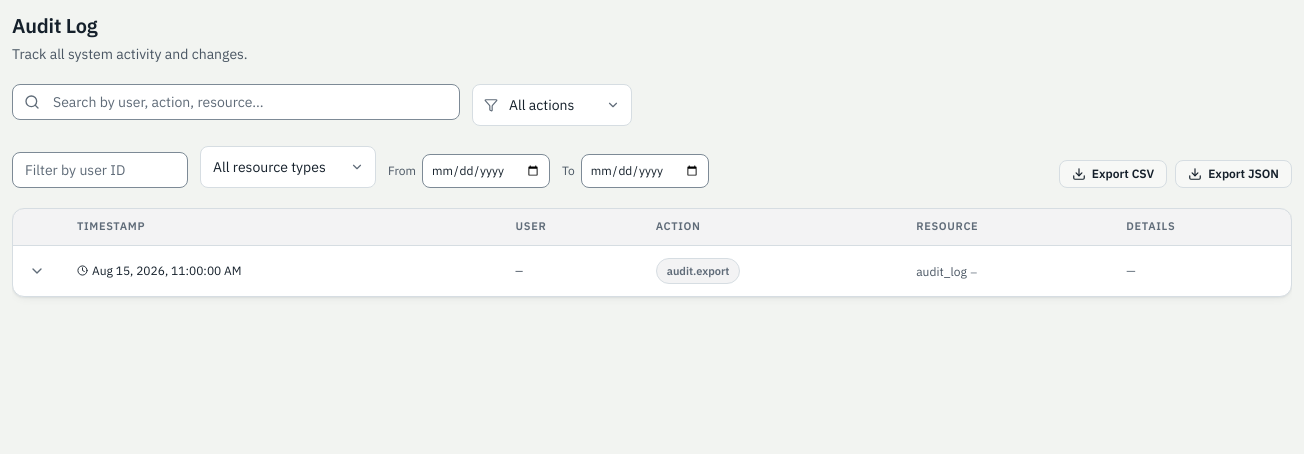
Test: AdminAuditLogPage — filters and export › expands a row with null details instead of silently doing nothing
Expected: the text "audit.export" is shown, [656, 258, 740, 284]
Click the button named "expand row" at (37, 271), box [29, 263, 45, 279]
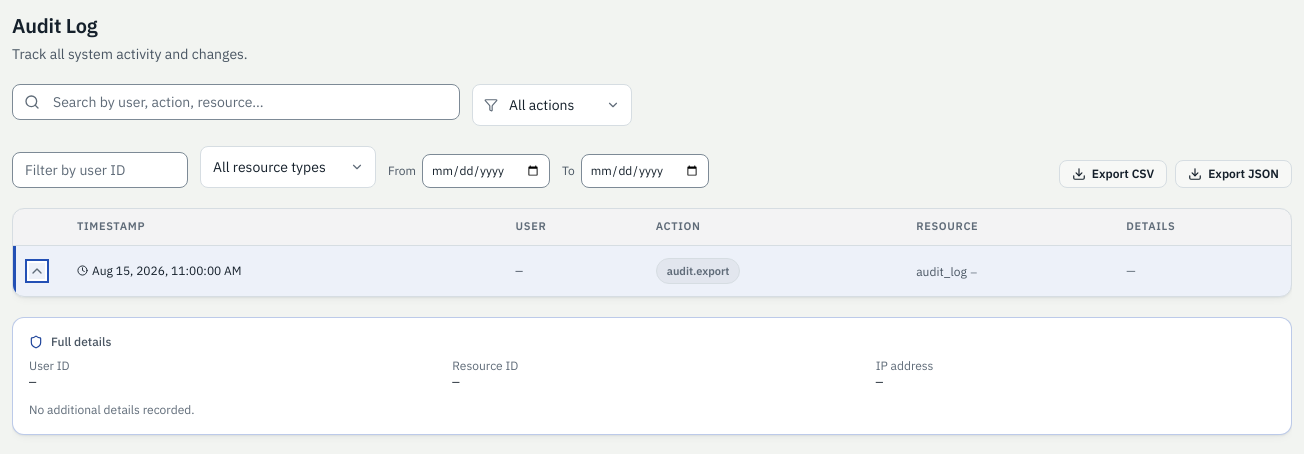
Expected: the text "—" below "IP address" is shown, [876, 374, 883, 389]
Result: the text "Full details" is shown at [51, 334, 111, 350]
Result: the text "No additional details recorded." is shown at [29, 402, 194, 417]
